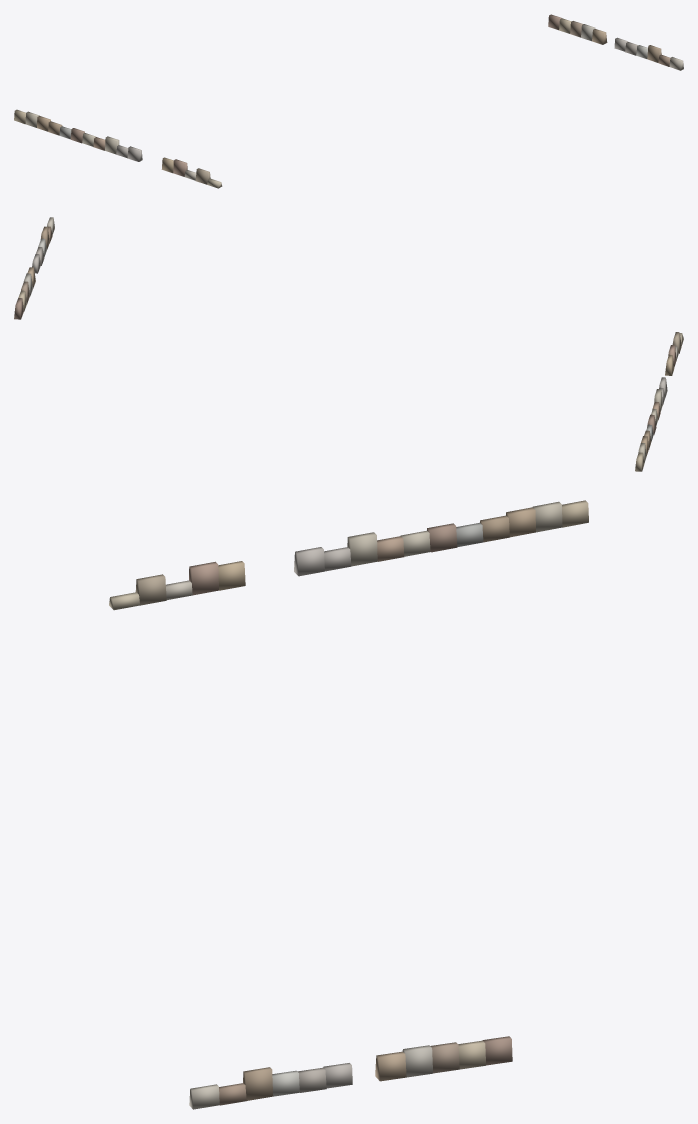
File: farm_33_39_collision.glb
The picture shows the model from 3 angles, top to bottom: view 1: azimuth 30°, elevation 25°; view 2: azimuth 150°, elevation 25°; view 3: azimuth 270°, elevation 25°; orthographic projection. The views are drawn at different scales.
Visible parts, largest first — view 1: geometry_0; view 2: geometry_0; view 3: geometry_0.
Part boxes in pixels (box(x1,y1,x2,y2)): geometry_0: box(14, 14, 683, 188); geometry_0: box(14, 217, 683, 471); geometry_0: box(109, 500, 588, 1109).
Bounding box in the file's own units: 71.77 × 3.61 × 26.09.
